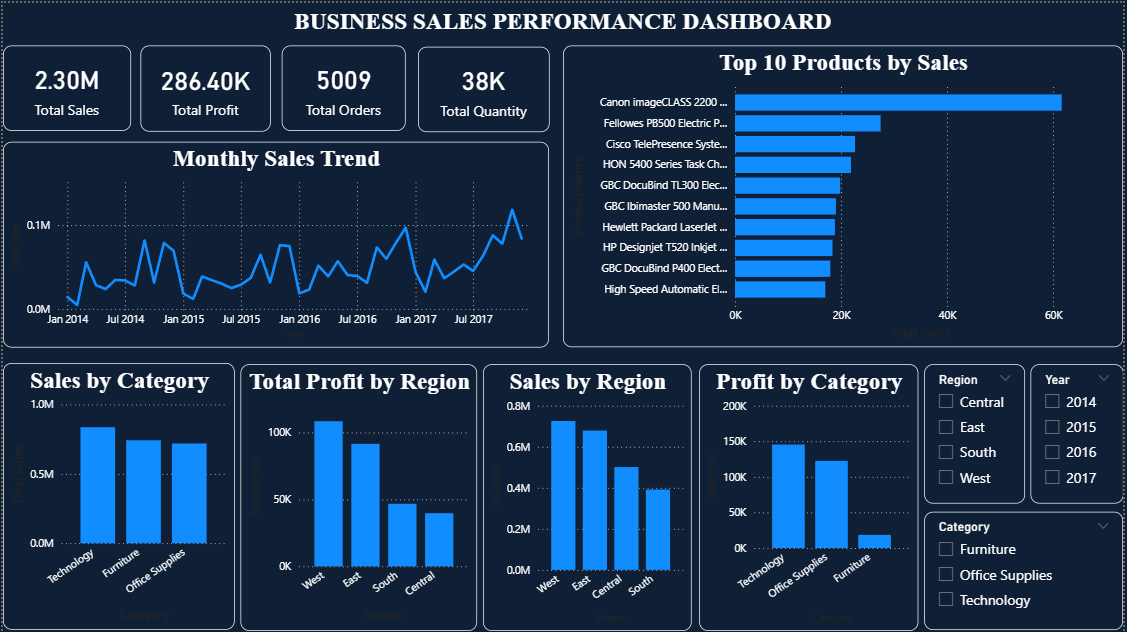

What the dashboard file says about the page in this screenshot:
{"tool":"powerbi","page":{"name":"Page 1","canvas":[1280,720],"ordinal":0},"visuals":[{"type":"card","title":"Total Sales","fields":{"Values":["Sample - Superstore.Total Sales"]},"box":[0,42.5,136.2,102.5],"z":0},{"type":"card","fields":{"Values":["Sample - Superstore.Total Orders"]},"box":[268.8,42.5,170,91.2],"z":1000},{"type":"card","fields":{"Values":["Sample - Superstore.Total Profit"]},"box":[146.2,42.5,122.5,91.2],"z":2000},{"type":"card","fields":{"Values":["Sample - Superstore.Total Quantity"]},"box":[438.8,42.5,165,91.2],"z":3000},{"type":"lineChart","title":"Monthly Sales Trend (2014–2017)","fields":{"Category":["Sample - Superstore.Order Date.Variation.Date Hierarchy.Year","Sample - Superstore.Order Date.Variation.Date Hierarchy.Month"],"Y":["Sample - Superstore.Total Sales"]},"box":[0,158.6,640,280],"z":4000},{"type":"clusteredBarChart","title":"Top 10 Products by Sales","fields":{"Category":["Sample - Superstore.Product Name"],"Y":["Sample - Superstore.Total Sales"]},"box":[640,145.7,640,292.9],"z":5000},{"type":"clusteredColumnChart","title":"Sales by Category","fields":{"Category":["Sample - Superstore.Category"],"Y":["Sample - Superstore.Total Sales"]},"box":[0,452.9,340,267.1],"z":6000},{"type":"clusteredColumnChart","title":"Sales by Region","fields":{"Y":["Sample - Superstore.Total Sales"],"Category":["Sample - Superstore.Region"]},"box":[680,452.9,265.7,265.7],"z":7000},{"type":"clusteredColumnChart","title":"Profit by Category","fields":{"Category":["Sample - Superstore.Category"],"Y":["Sample - Superstore.Total Profit"]},"box":[960,452.9,320,267.1],"z":8000},{"type":"clusteredColumnChart","fields":{"Category":["Sample - Superstore.Region"],"Y":["Sample - Superstore.Total Profit"]},"box":[354.3,452.9,325.7,264.3],"z":9000},{"type":"slicer","fields":{"Values":["Sample - Superstore.Order Date.Variation.Date Hierarchy.Year"]},"box":[0,378.6,332.9,250],"z":10000},{"type":"slicer","fields":{"Values":["Sample - Superstore.Category"]},"box":[245.7,467.1,148.6,134.3],"z":11000},{"type":"slicer","fields":{"Values":["Sample - Superstore.Region"]},"box":[980,27.1,300,114.3],"z":12000},{"type":"textbox","box":[0,0,1280,53.8],"z":13000}]}

Visuals, with their boxes in screenshot pixels (x1, y1, x2, y2), scaled from the page's 1280x720 canvas onto the 1127x632 screenshot:
"Total Sales" card: [left=0, top=37, right=120, bottom=127]
card - Sample - Superstore.Total Orders: [left=237, top=37, right=386, bottom=117]
card - Sample - Superstore.Total Profit: [left=129, top=37, right=237, bottom=117]
card - Sample - Superstore.Total Quantity: [left=386, top=37, right=532, bottom=117]
"Monthly Sales Trend (2014–2017)" lineChart: [left=0, top=139, right=564, bottom=385]
"Top 10 Products by Sales" clusteredBarChart: [left=564, top=128, right=1126, bottom=385]
"Sales by Category" clusteredColumnChart: [left=0, top=398, right=299, bottom=631]
"Sales by Region" clusteredColumnChart: [left=599, top=398, right=833, bottom=631]
"Profit by Category" clusteredColumnChart: [left=845, top=398, right=1126, bottom=631]
clusteredColumnChart - Sample - Superstore.Region x Sample - Superstore.Total Profit: [left=312, top=398, right=599, bottom=630]
slicer - Sample - Superstore.Order Date.Variation.Date Hierarchy.Year: [left=0, top=332, right=293, bottom=552]
slicer - Sample - Superstore.Category: [left=216, top=410, right=347, bottom=528]
slicer - Sample - Superstore.Region: [left=863, top=24, right=1126, bottom=124]
textbox: [left=0, top=0, right=1126, bottom=47]
